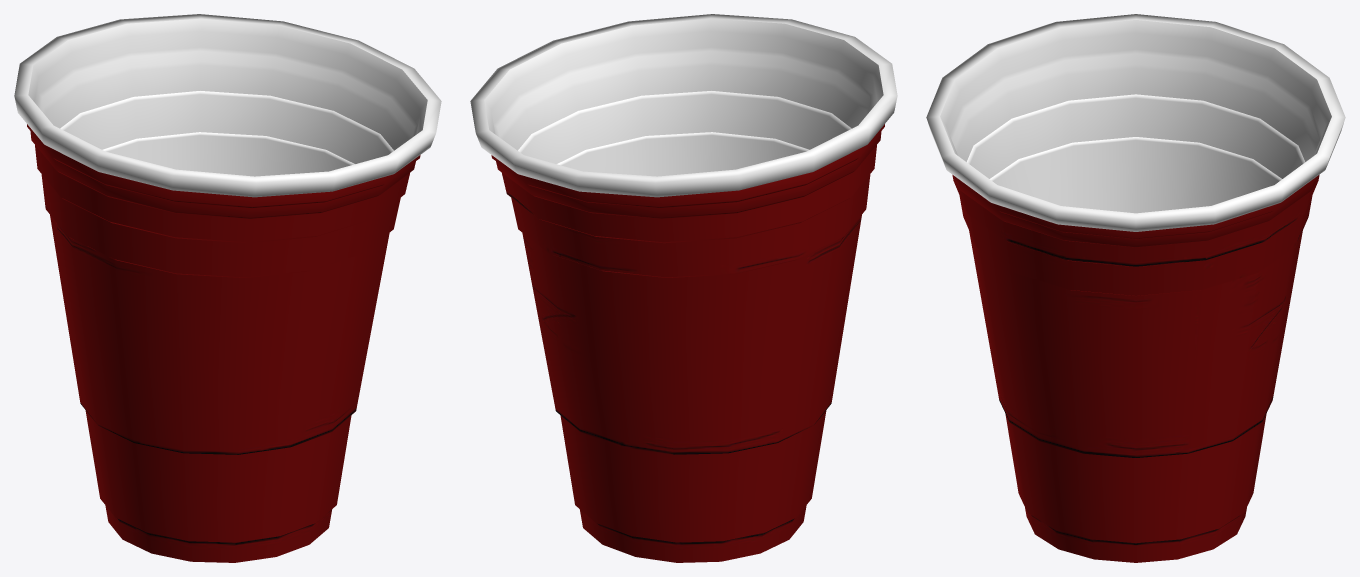
The model's file is redcup2.glb.
3 views of the same model, side by side, from view 1: azimuth 30°, elevation 25°; view 2: azimuth 150°, elevation 25°; view 3: azimuth 270°, elevation 25° (orthographic). The views are drawn at different scales.
Bounding box in the file's own units: 0.1749 × 0.194 × 0.1755.
2 materials, 1 textured.
